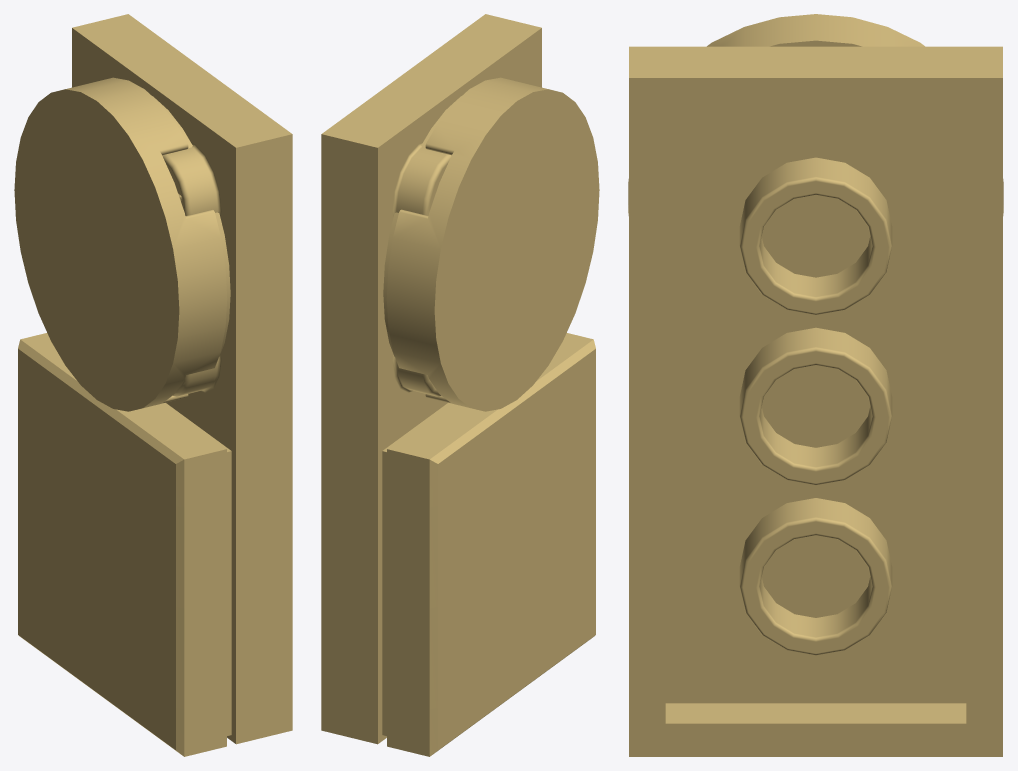
The model's file is indicator.fbx.
3 views of the same model, side by side, from view 1: azimuth 30°, elevation 25°; view 2: azimuth 150°, elevation 25°; view 3: azimuth 270°, elevation 25° (orthographic). The views are drawn at different scales.
Parts seen in each view (by area): view 1: Indicator; view 2: Indicator; view 3: Indicator.
Boxes of the visible parts, x1,y1,x2,y2 form: Indicator: [14, 14, 292, 756]; Indicator: [321, 14, 599, 756]; Indicator: [628, 14, 1003, 756].
Bounding box in the file's own units: 636 × 3196 × 1600.
